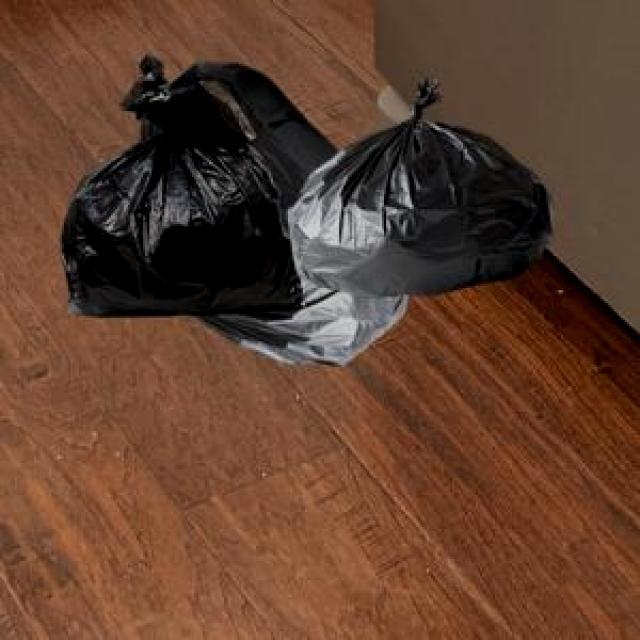Trashbag: (48, 51, 310, 325), (281, 66, 563, 302)
